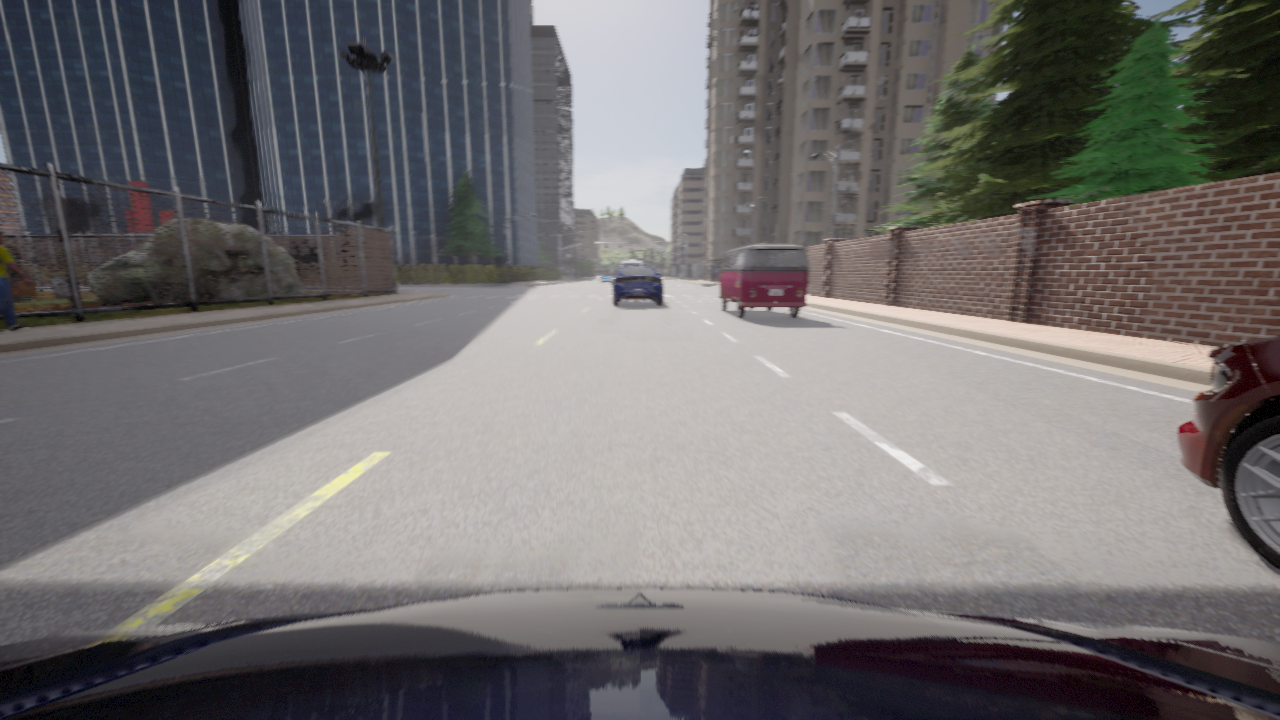cyclist: (0, 588, 1279, 719), (1177, 337, 1279, 569), (716, 244, 809, 318), (612, 265, 662, 304), (618, 259, 643, 270), (600, 272, 612, 283)
pedestrian: (0, 231, 31, 334)
